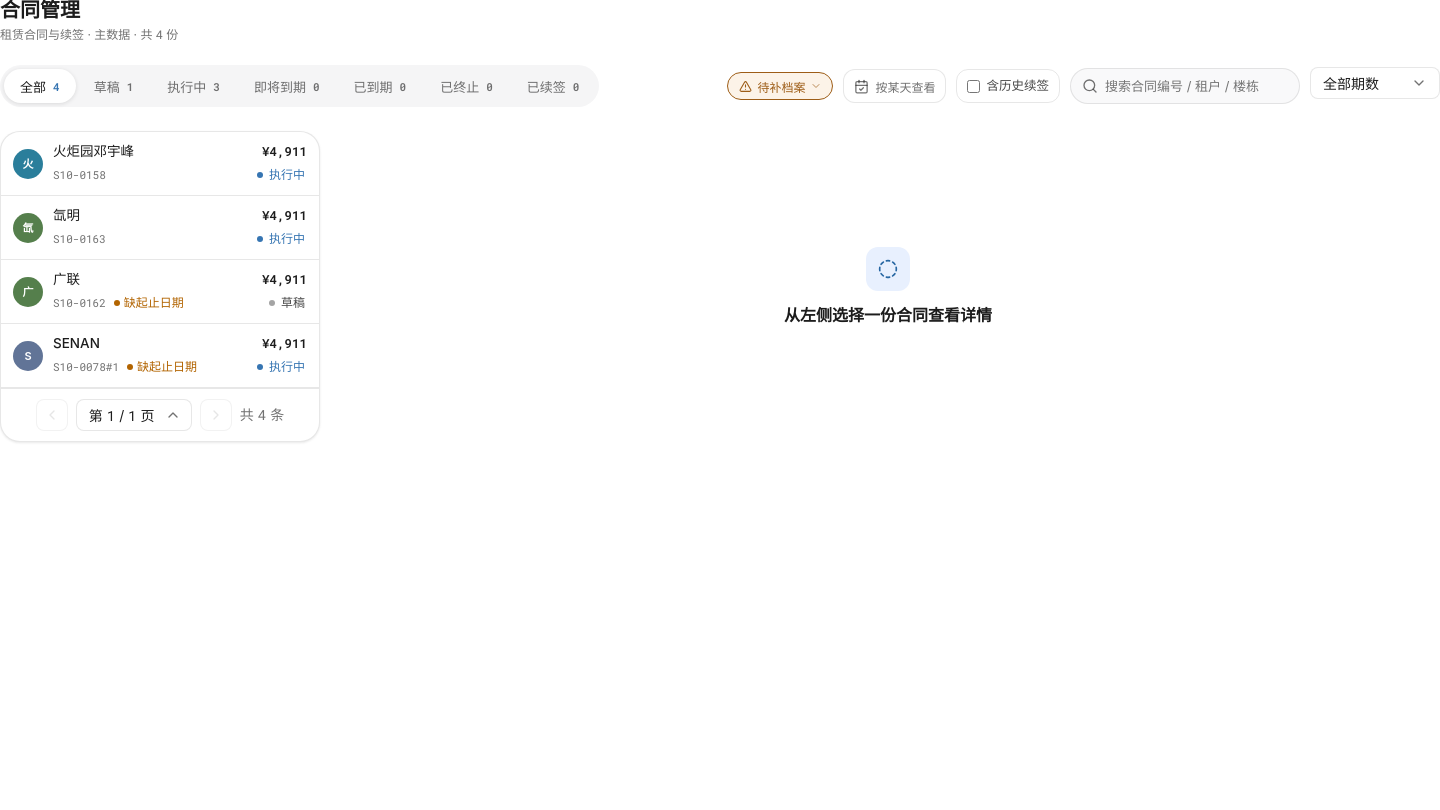
合同管理 · 待补档案入口(画布 01-B) › ❗点 × 回到全部,胶囊回「待补档案」
The image size is (1440, 810).
Click the button with class "fac". click: click(780, 86)
box: [728, 72, 834, 100]
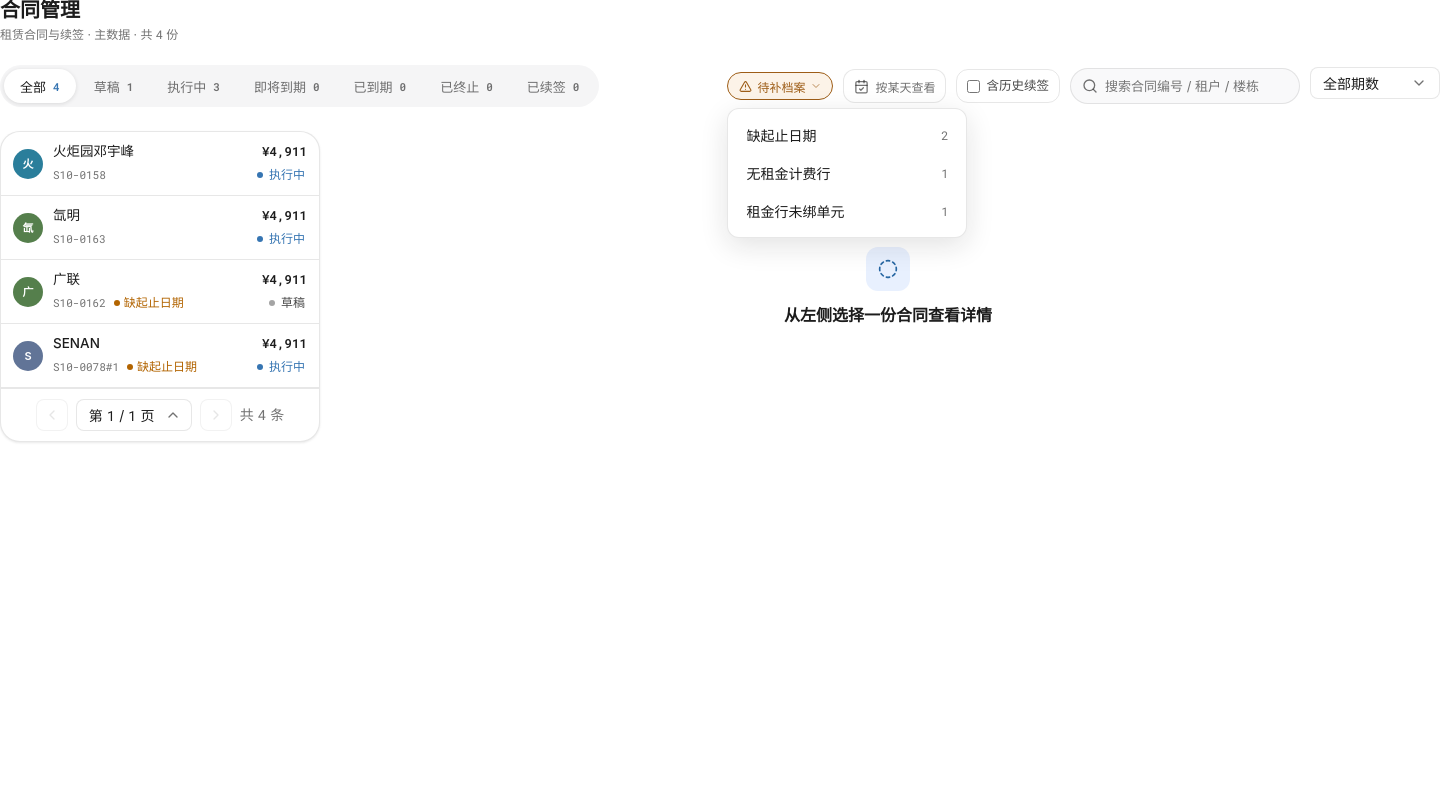
Click the button "无租金计费行 1". click: click(848, 173)
box: [736, 155, 958, 191]
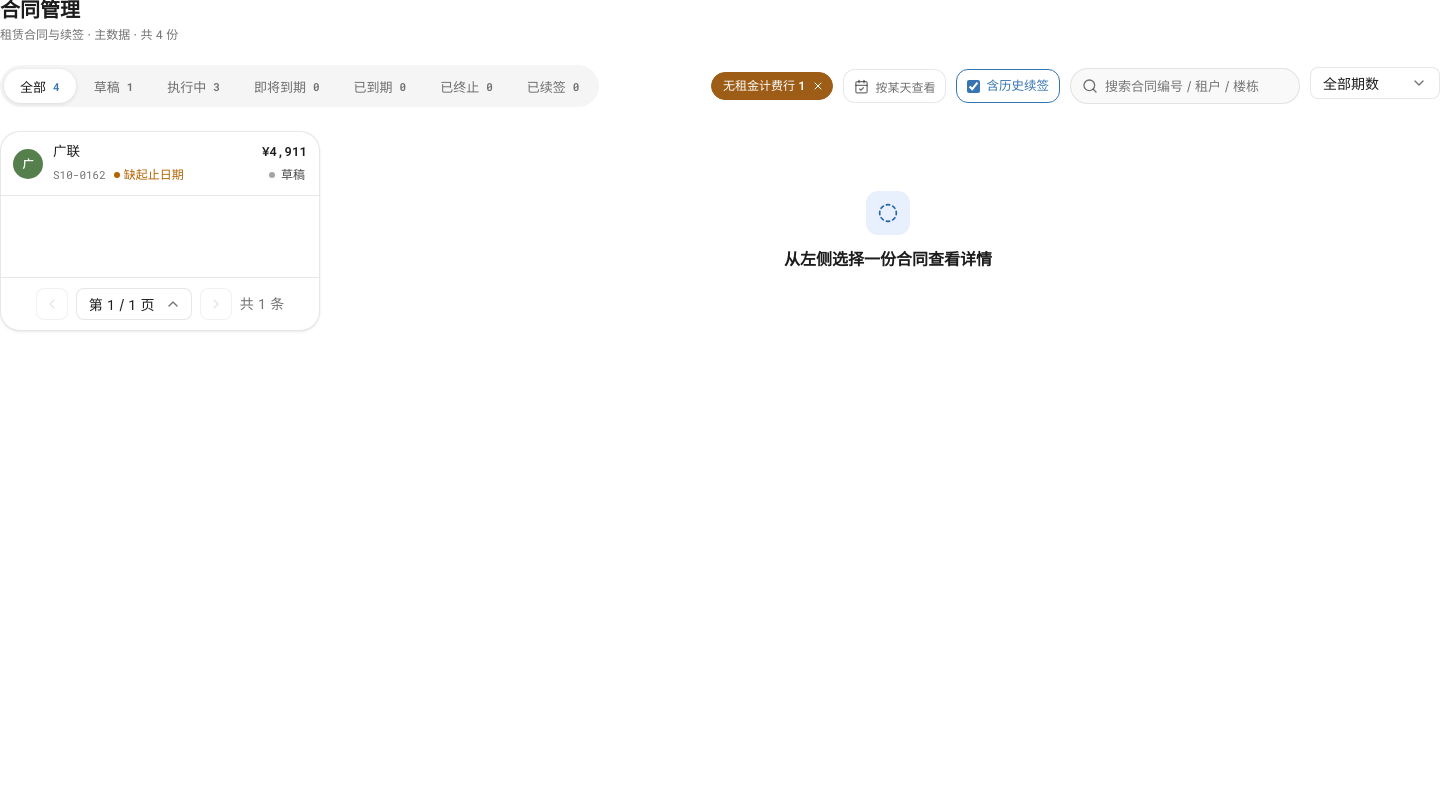
Click the button named "清除筛选". click: click(818, 86)
box: [810, 78, 826, 94]
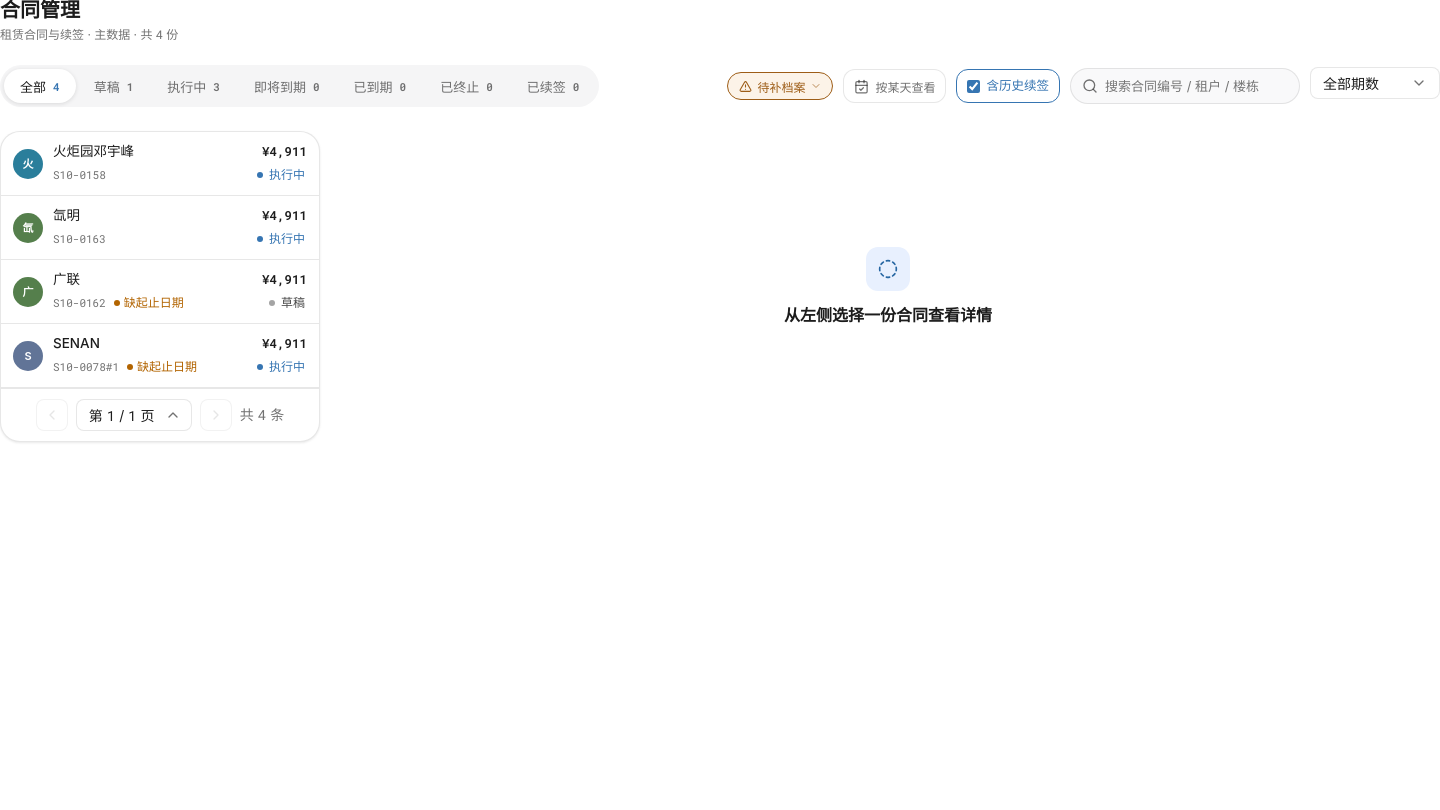
Now the button with class "fac" reads "待补档案", box [728, 72, 834, 100]
